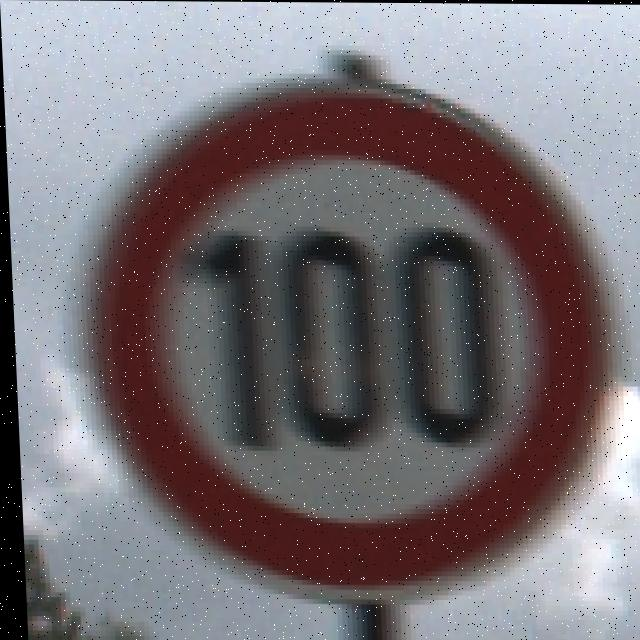speed_limit_100: (113, 101, 592, 586)
